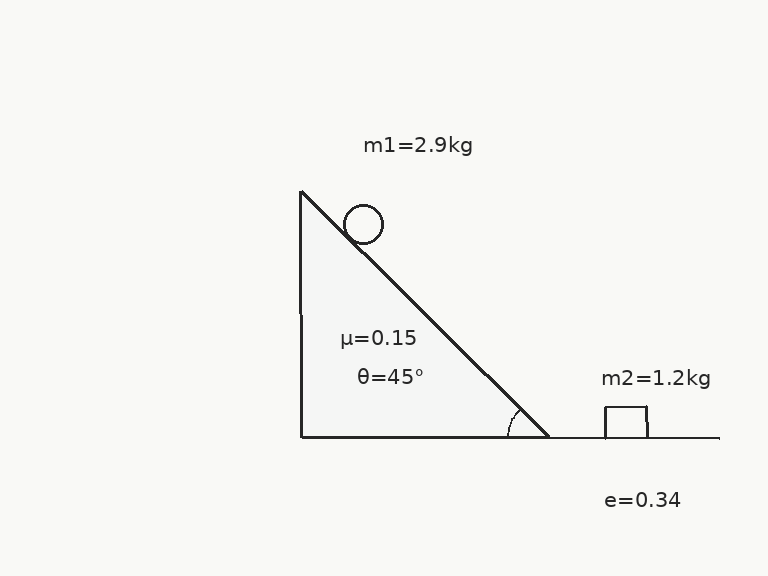ball: (341, 202, 385, 246)
block: (603, 404, 649, 439)
ramp: (299, 188, 550, 439)
